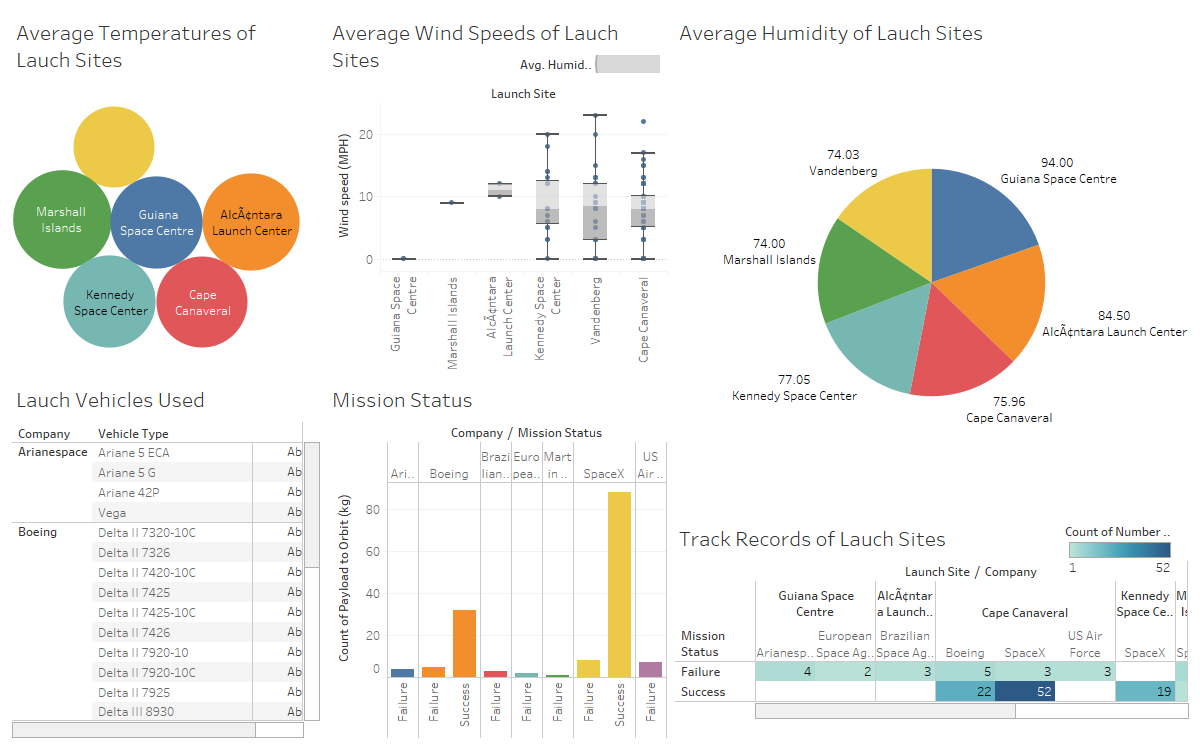

The page's visual inventory and layout, read from the dashboard file:
{"tool":"tableau","page":{"name":"Space Missions Dashboard","canvas":[1200,750],"ordinal":0},"visuals":[{"type":"worksheet","title":"Average Temperatures of Lauch Sites ","mark":"Circle","box":[8,8,315.6,367]},{"type":"worksheet","title":"Average Wind Speeds of Lauch Sites","mark":"Circle","rows":["Wind speed (MPH)"],"cols":["Launch Site"],"box":[323.7,8,346.9,367]},{"type":"worksheet","title":"Average Humidity of Lauch Sites","mark":"Pie","box":[670.5,8,521.5,506]},{"type":"legend","title":"Average Humidity of Lauch Sites","param":"[federated.0urpl3v1uhk2591dex0by18yze99].[avg:Humidity (%):qk]","box":[520,54,140,23]},{"type":"worksheet","title":"Lauch Vehicles Used","mark":"Automatic","rows":["Company","Vehicle Type"],"box":[8,375,315.6,367]},{"type":"worksheet","title":"Mission Status","mark":"Automatic","rows":["Payload to Orbit (kg)"],"cols":["Company","Mission Status"],"box":[323.7,375,346.9,367]},{"type":"worksheet","title":"Track Records of Lauch Sites","mark":"Square","rows":["Mission Status"],"cols":["Launch Site","Company"],"box":[670.5,514,521.5,228]},{"type":"legend","title":"Track Records of Lauch Sites","param":"[federated.0urpl3v1uhk2591dex0by18yze99].[cnt:Number of Records:qk]","box":[1065,519,110,54]}]}

Visuals, with their boxes in screenshot pixels (x1, y1, x2, y2), scaled from the page's 1200x750 canvas onto the 1200x750 screenshot:
"Average Temperatures of Lauch Sites " worksheet (Circle marks): 8/8/324/375
"Average Wind Speeds of Lauch Sites" worksheet (Circle marks): 324/8/671/375
"Average Humidity of Lauch Sites" worksheet (Pie marks): 670/8/1192/514
"Average Humidity of Lauch Sites" legend: 520/54/660/77
"Lauch Vehicles Used" worksheet: 8/375/324/742
"Mission Status" worksheet: 324/375/671/742
"Track Records of Lauch Sites" worksheet (Square marks): 670/514/1192/742
"Track Records of Lauch Sites" legend: 1065/519/1175/573
